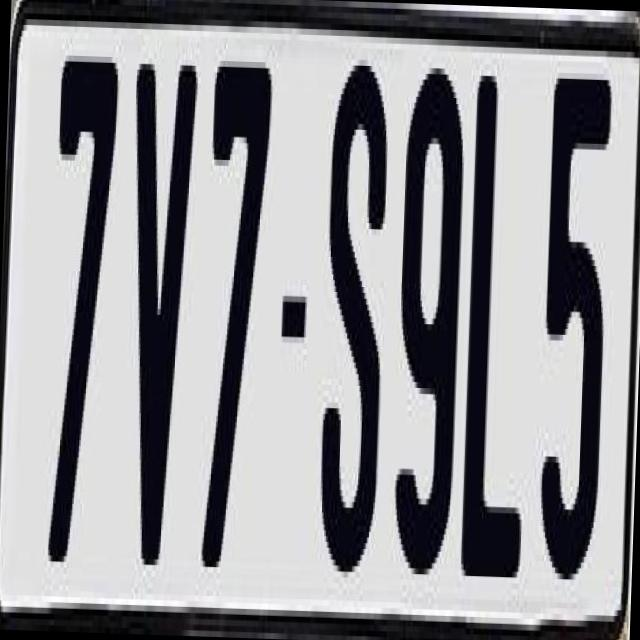5: (536, 60, 620, 586)
7: (41, 43, 125, 551), (198, 54, 280, 568)
9: (388, 55, 472, 593)
L: (459, 74, 536, 600)
S: (315, 46, 392, 578)
V: (117, 51, 201, 584)
